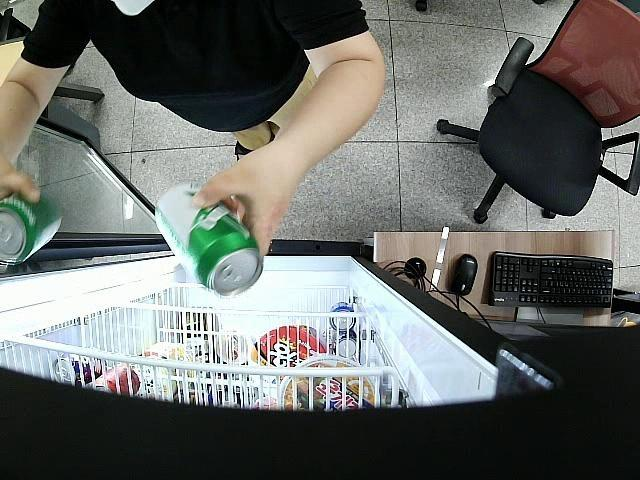12_chilsungCider: (154, 183, 262, 296), (0, 188, 64, 267)
